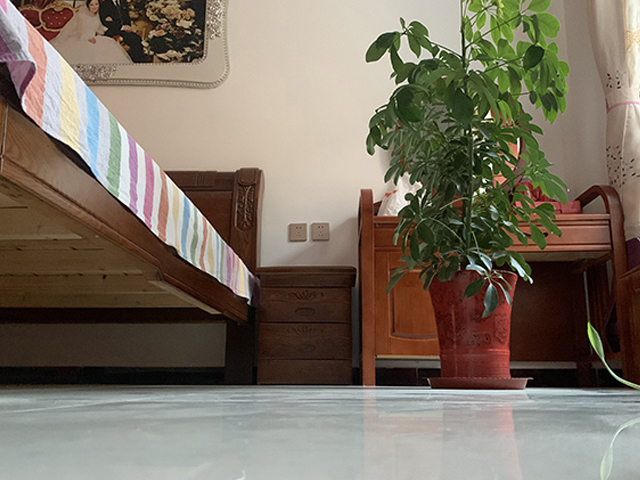bed: (1, 1, 266, 386)
cabinet: (254, 264, 356, 385)
table: (357, 186, 640, 389)
